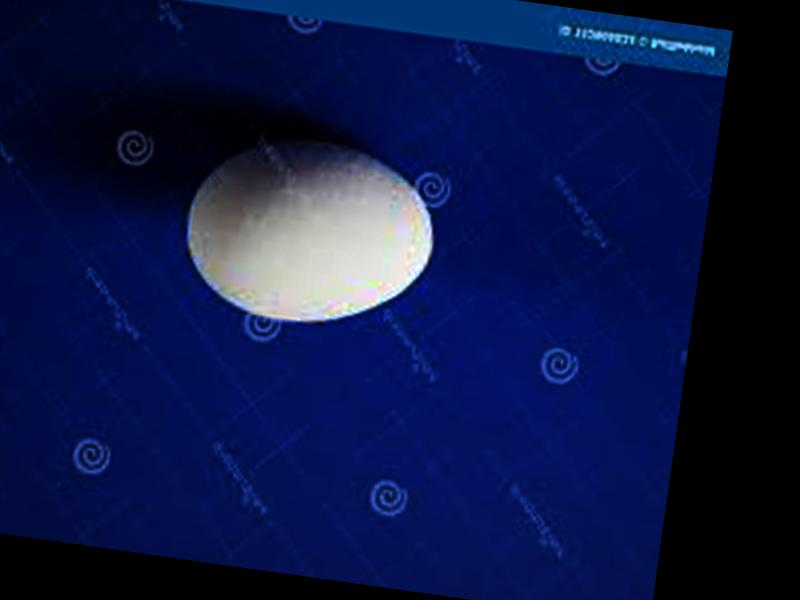Eggs: (174, 123, 446, 338)
